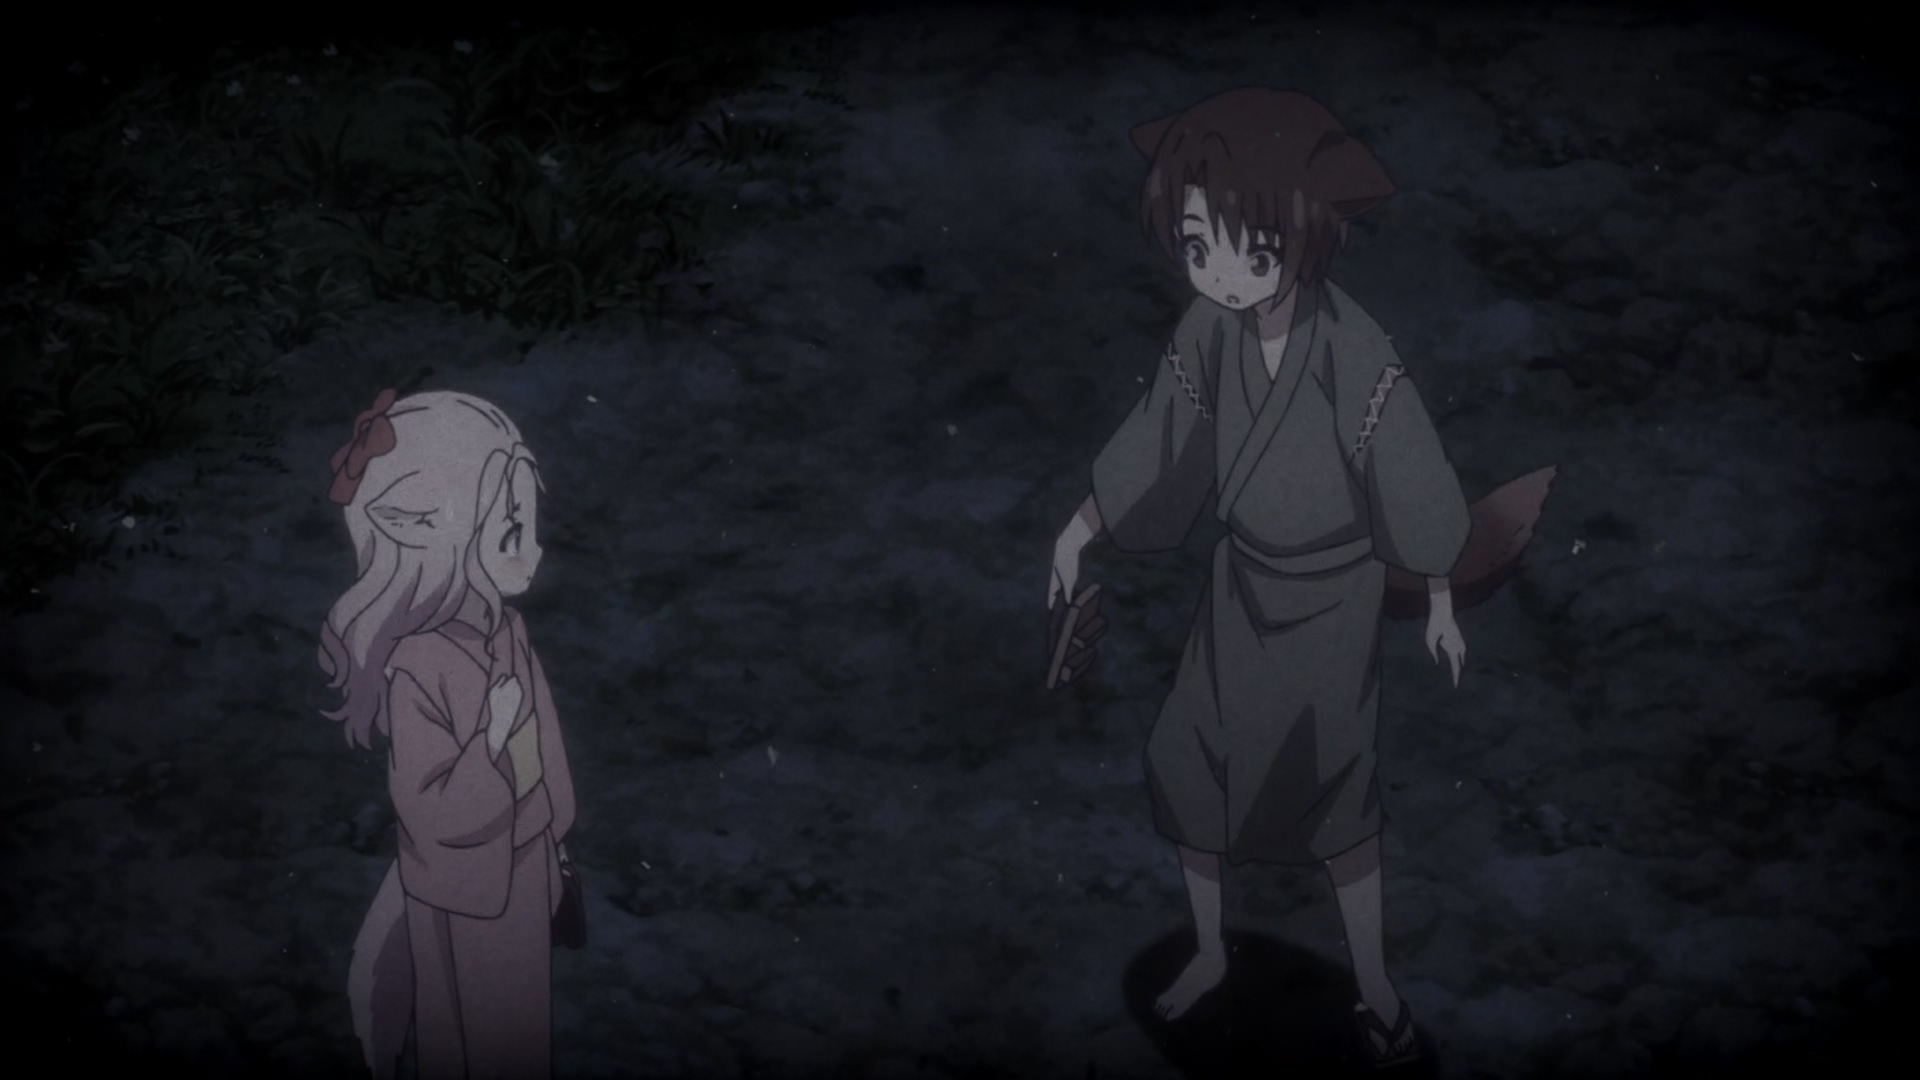枣: (1048, 88, 1553, 1080)
莲: (318, 388, 578, 1080)
